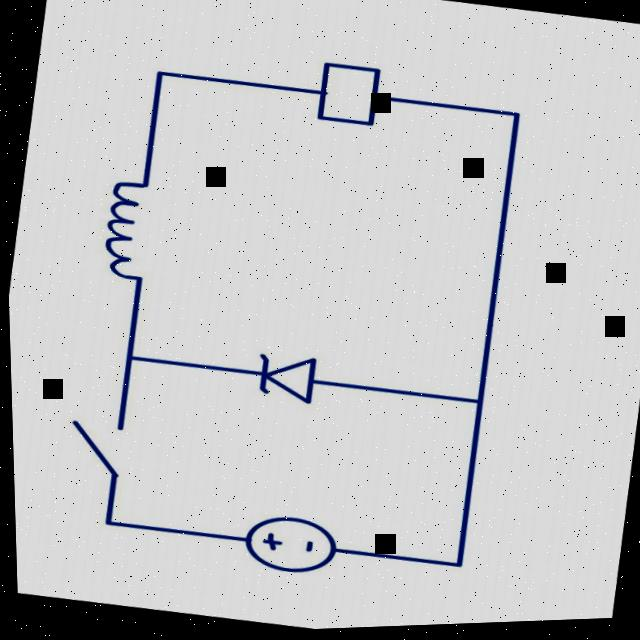diode: (233, 345, 343, 419)
inductor: (68, 162, 182, 297)
resistor: (294, 55, 409, 143)
source: (225, 505, 346, 588)
switch: (42, 393, 154, 496)
